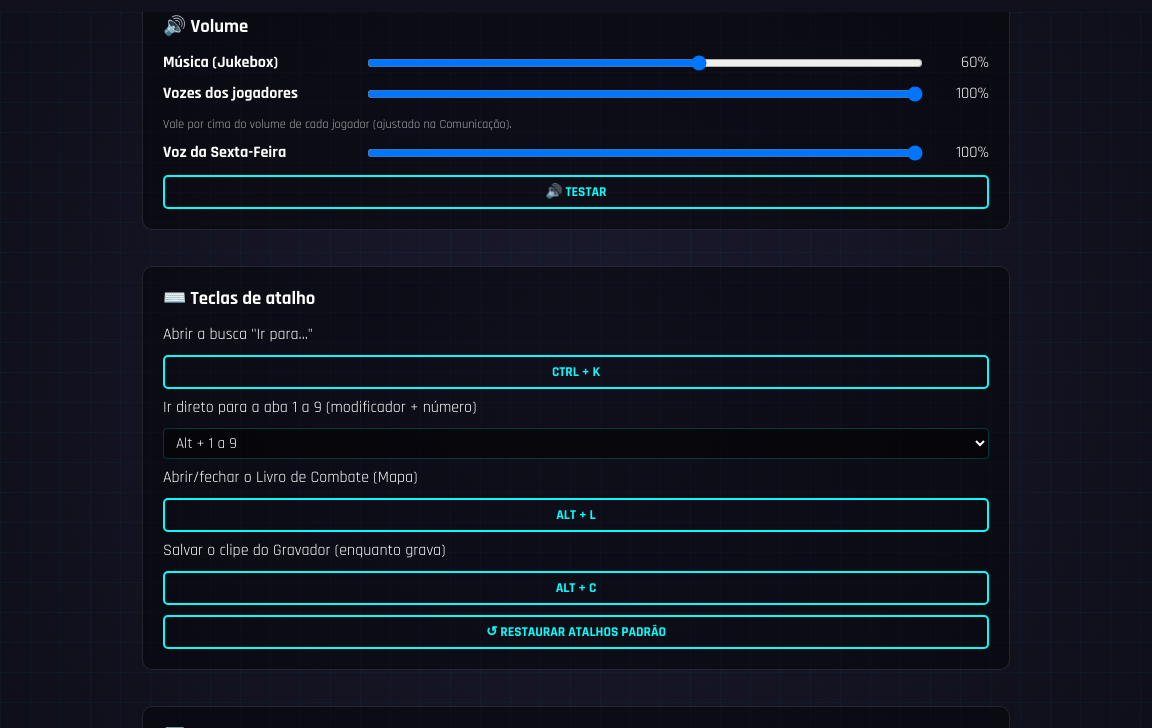
Scenario: ConfiguracoesPanel - atalhos › Esc cancela a captura sem salvar
(page scrolled)
Step 1. Click the button with aria-label "Alterar o atalho: Abrir a busca" → (576, 372), box [163,355,989,389]
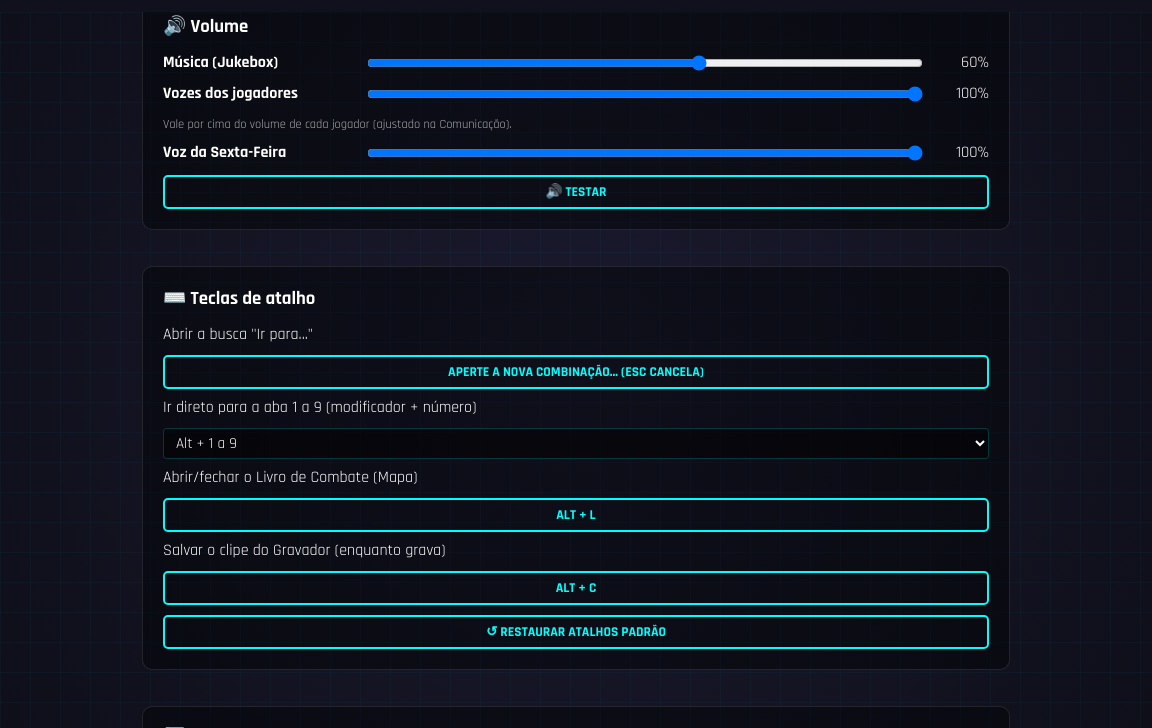
Step 2. Press Escape
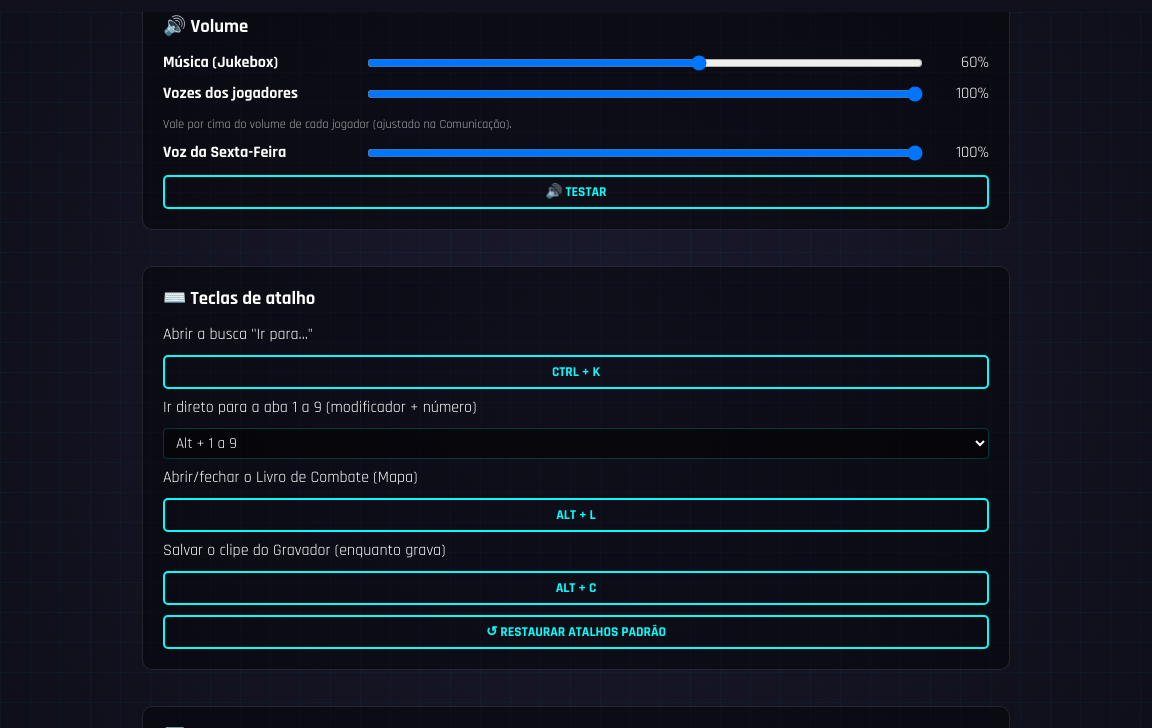
Result: the button with aria-label "Alterar o atalho: Abrir a busca" reads "Ctrl + K" at [163,355,989,389]
